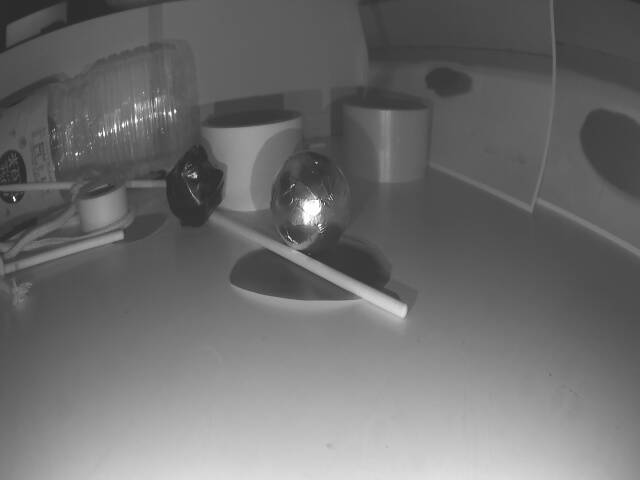Dead: (168, 154, 227, 221)
Live: (271, 155, 348, 250)
